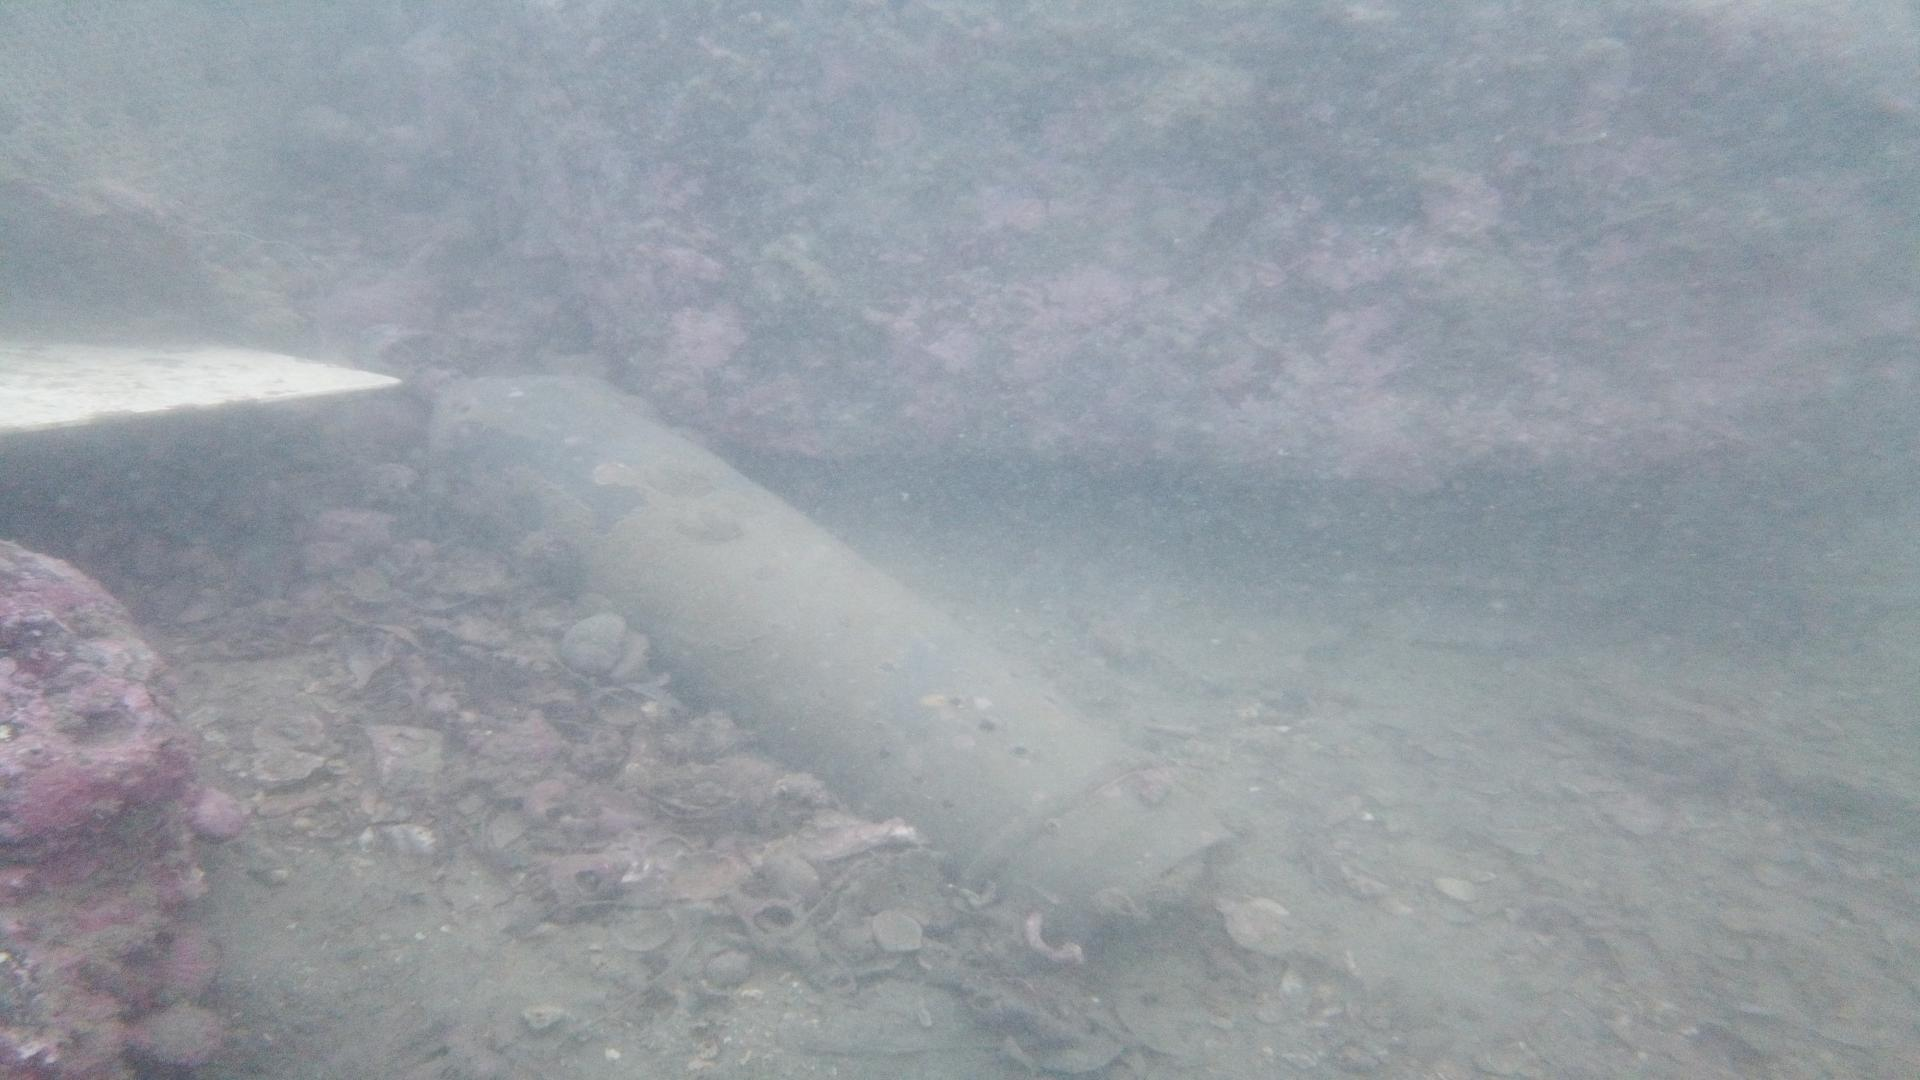eel fish trap: (355, 322, 1245, 953)
